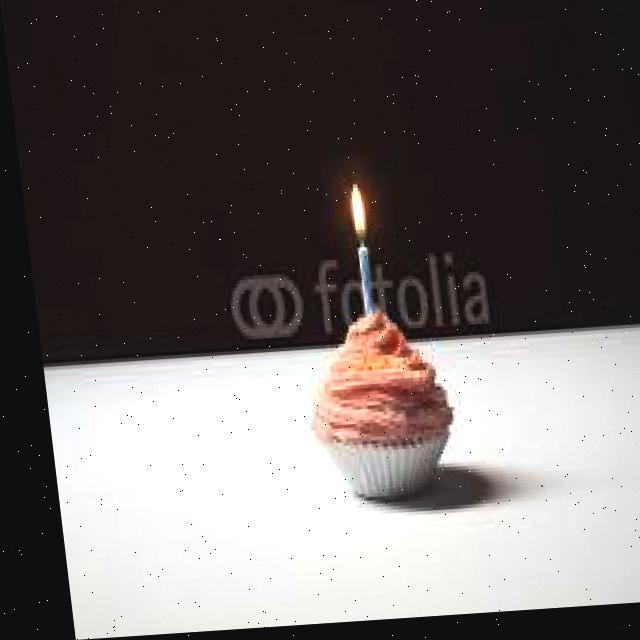Fire: (332, 178, 368, 256)
